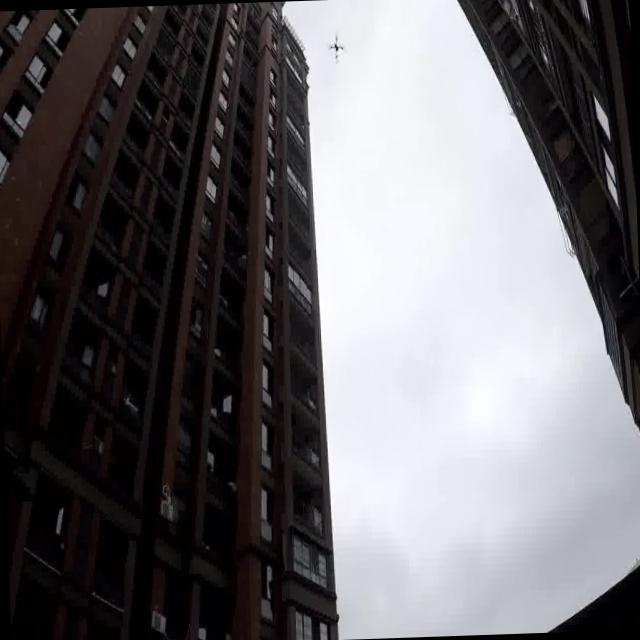drone: (326, 30, 345, 64)
